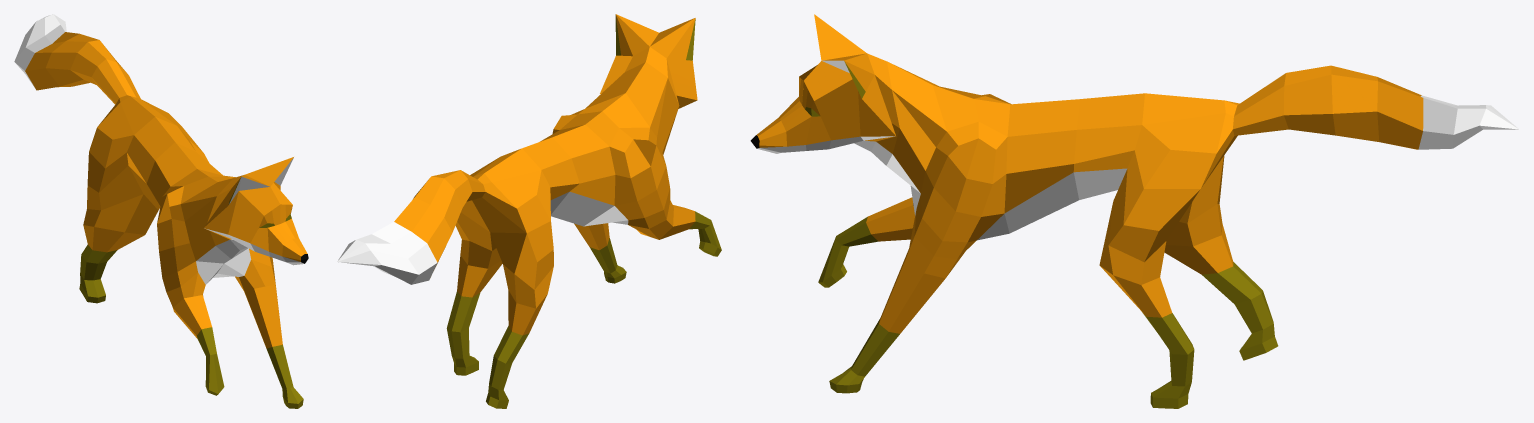
File: Fox.glb
The picture shows the model from 3 angles, left to right: view 1: azimuth 30°, elevation 25°; view 2: azimuth 150°, elevation 25°; view 3: azimuth 270°, elevation 25°; orthographic projection. The views are drawn at different scales.
Visible parts, largest first — view 1: Fox.obj; view 2: Fox.obj; view 3: Fox.obj.
Boxes of the visible parts, left/top/right/bottom form: Fox.obj: left=14, top=14, right=308, bottom=408; Fox.obj: left=337, top=14, right=721, bottom=408; Fox.obj: left=750, top=14, right=1518, bottom=408.
Bounding box in the file's own units: 1.32 × 2.54 × 5.26.
